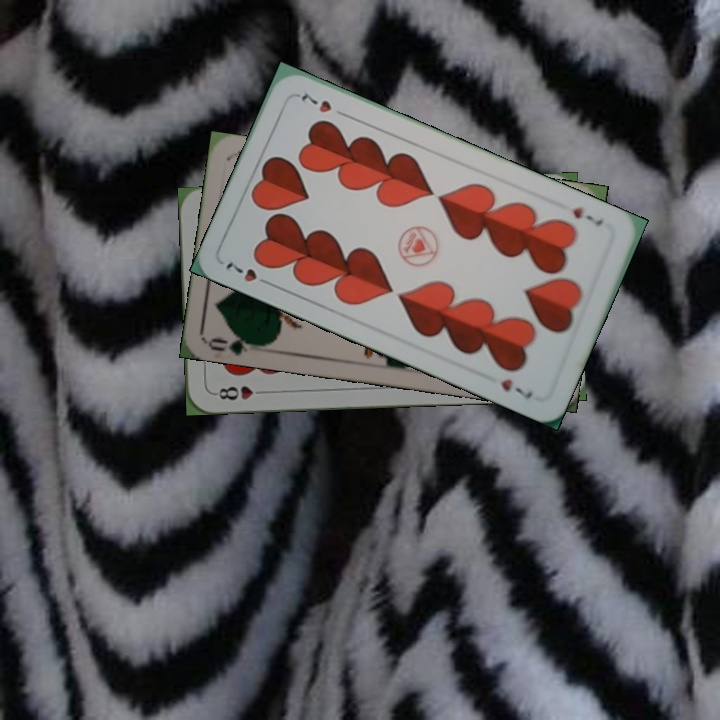GO: (206, 329, 266, 357)
H7: (221, 258, 276, 289), (568, 202, 606, 230)
H8: (210, 382, 269, 402)
